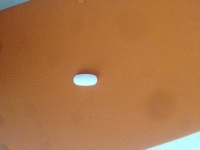Centik Buskopan: (73, 73, 98, 86)
